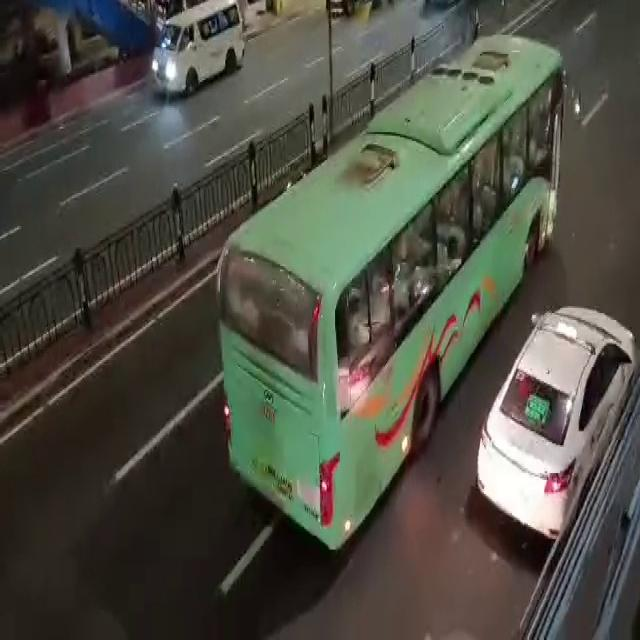bus: (192, 25, 578, 601)
car: (446, 276, 639, 586), (134, 0, 254, 115)
